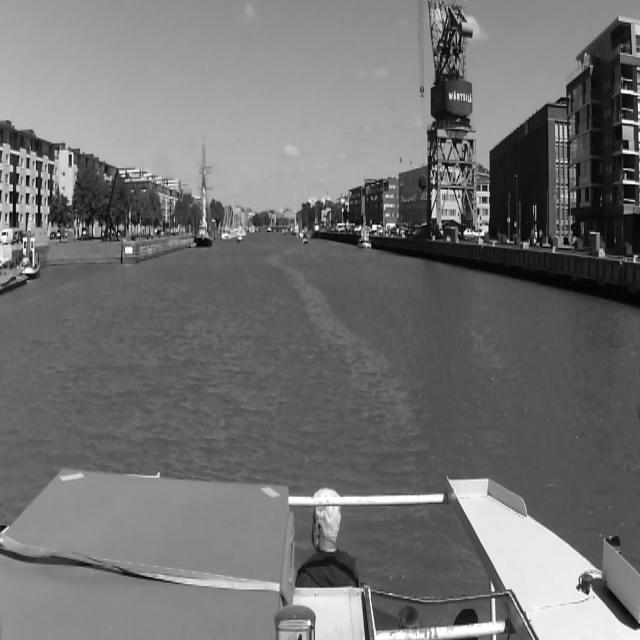ship: (193, 134, 214, 247), (22, 234, 40, 279), (358, 223, 372, 251), (313, 215, 321, 238), (282, 227, 293, 234), (303, 239, 309, 246), (238, 235, 242, 242)
